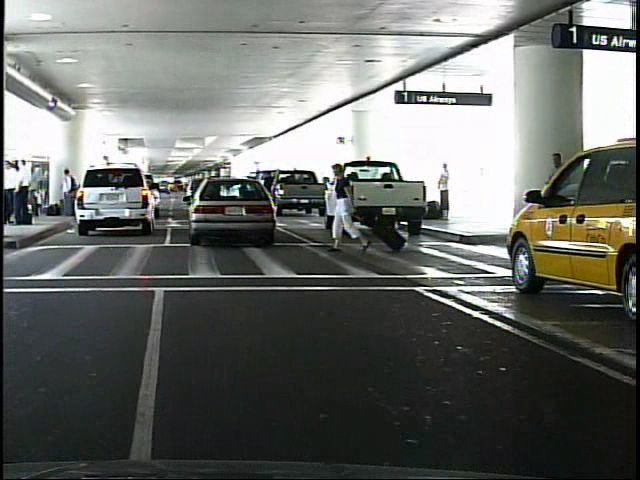person: (541, 144, 575, 259), (330, 160, 371, 255), (433, 159, 457, 221), (20, 159, 36, 227), (61, 165, 78, 221), (6, 160, 19, 222)
